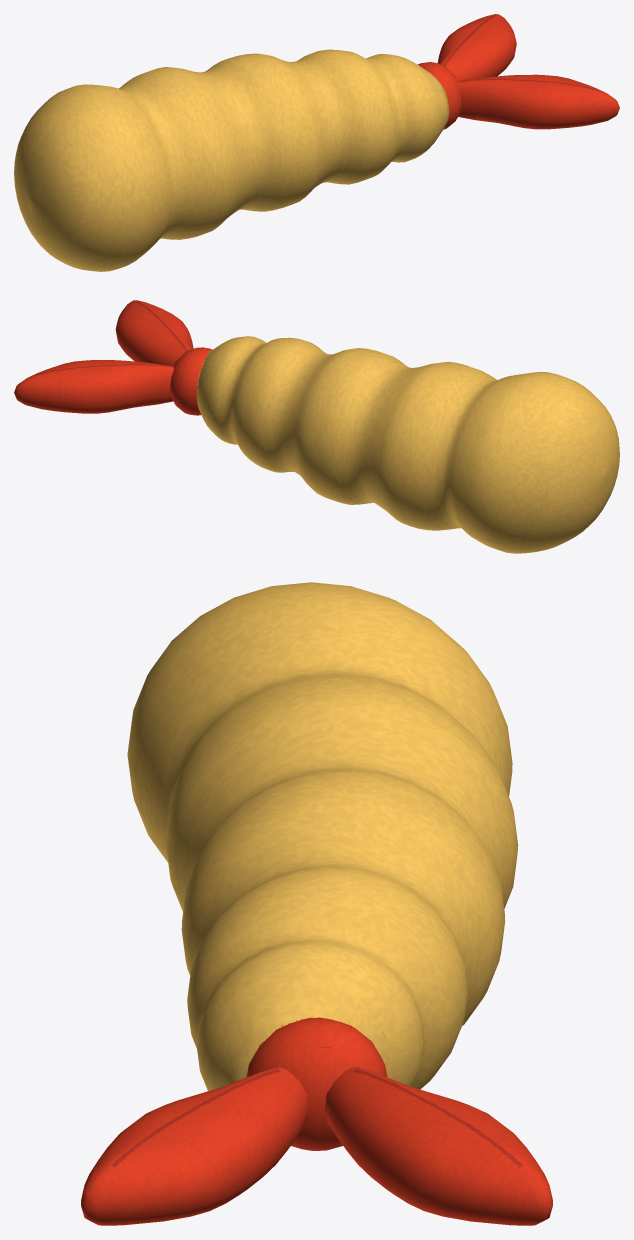
Rendered from EbiTenPlush.fbx.
3 views of the same model, one above another, from view 1: azimuth 30°, elevation 25°; view 2: azimuth 150°, elevation 25°; view 3: azimuth 270°, elevation 25° (orthographic). The views are drawn at different scales.
Parts seen in each view (by area): view 1: EbiTenPlush_V3; view 2: EbiTenPlush_V3; view 3: EbiTenPlush_V3.
Boxes of the visible parts, x1,y1,x2,y2 form: EbiTenPlush_V3: (14, 14, 619, 271); EbiTenPlush_V3: (14, 300, 619, 553); EbiTenPlush_V3: (81, 582, 552, 1225).
Size of the model in its own units: 1.29 by 0.3898 by 0.5.
Materials: 1 (1 with a texture image).
